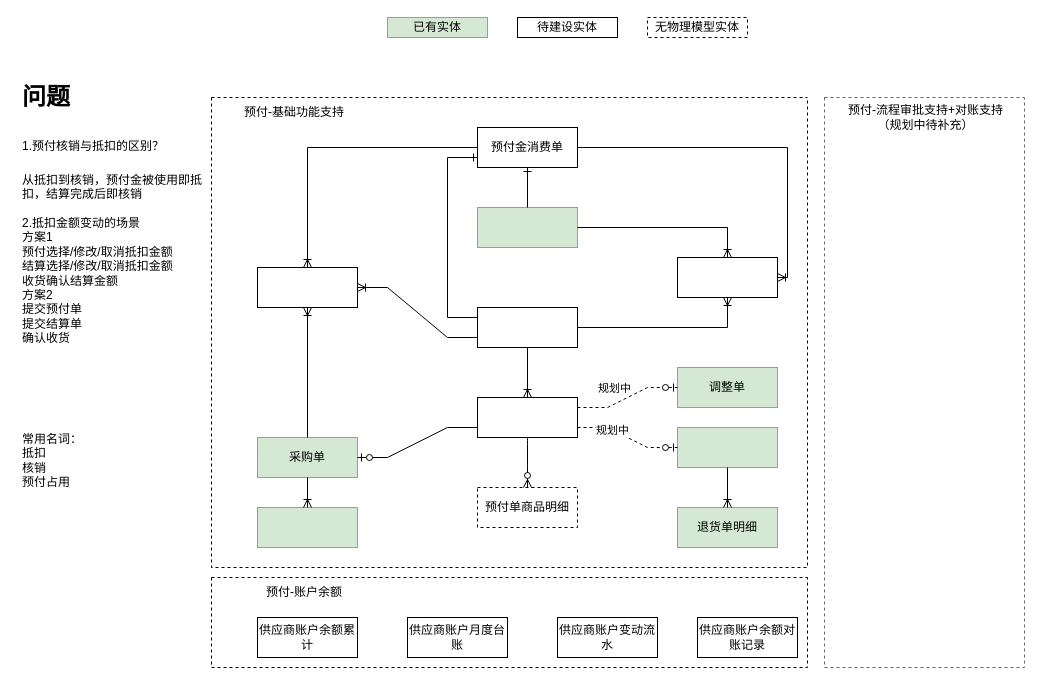
This 1042x685 diagram has some shape labels left out. Here are the shapes that lost their labels. From the top down, the centre of each, then its label:
the point at 527,227: 结算单
the point at 307,287: 预付金采购抵扣/核销记录
the point at 727,277: 预付金结算抵扣/核销记录
the point at 527,327: 预付单
the point at 527,417: 预付单明细
the point at 727,447: 退货单
the point at 307,527: 采购单明细
